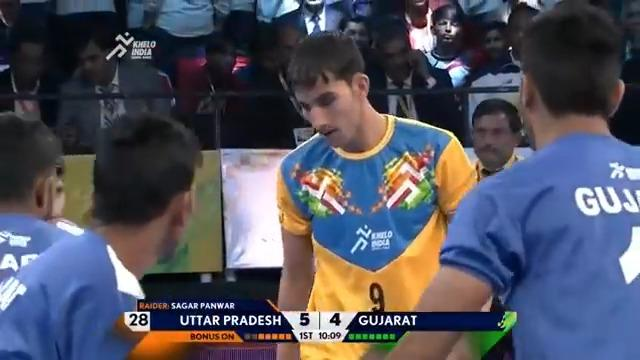Player: (383, 2, 639, 358), (0, 111, 202, 359)
Raider: (274, 29, 481, 358)
referee: (54, 23, 174, 153), (364, 13, 460, 137), (0, 11, 60, 126)
